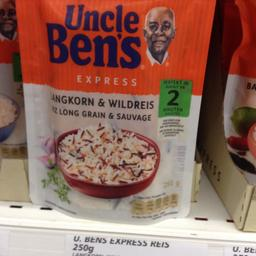rice: (14, 0, 215, 224)
